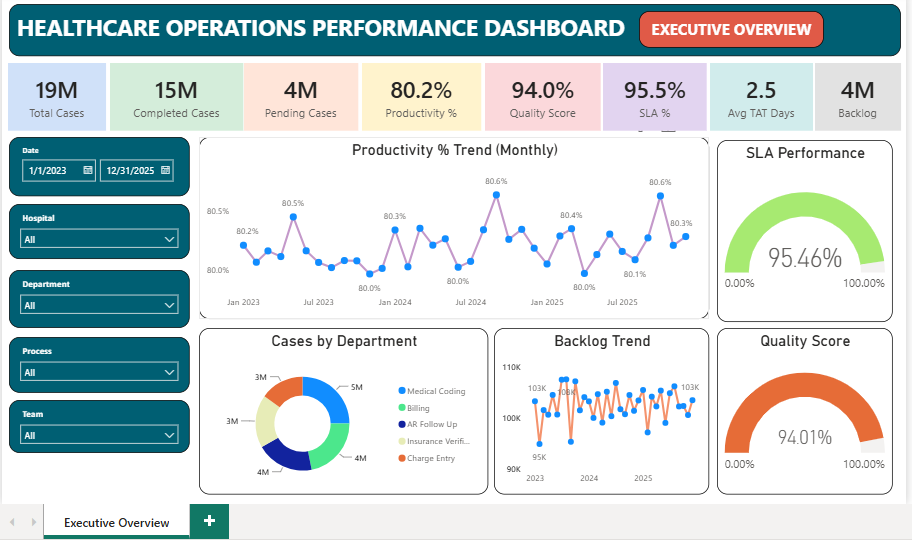

What the dashboard file says about the page in this screenshot:
{"tool":"powerbi","page":{"name":"Executive Overview","canvas":[1280,720],"ordinal":0},"visuals":[{"type":"textbox","box":[9.9,11.3,1264.3,73.7],"z":0},{"type":"textbox","box":[902.8,21.3,262.1,51.8],"z":1000},{"type":"slicer","fields":{"Values":["Dim_Date.Date"]},"box":[10.1,200.2,256.3,83.5],"z":2000},{"type":"slicer","fields":{"Values":["Dim_Hospital.Hospital_Name"]},"box":[10.1,295.2,256.3,77.8],"z":3000},{"type":"slicer","fields":{"Values":["Dim_Department.Department"]},"box":[10.1,388.8,256.3,82.1],"z":4000},{"type":"slicer","fields":{"Values":["Dim_Process.Process"]},"box":[10.1,483.8,256.3,79.2],"z":5000},{"type":"slicer","fields":{"Values":["Dim_Team.Team"]},"box":[10.1,573.1,256.3,74.9],"z":6000},{"type":"lineChart","title":"Productivity % Trend (Monthly)","fields":{"Category":["Dim_Date.Month_Year"],"Y":["Fact_Healthcare_Operations.Productivity %"]},"box":[279.4,200.2,722.9,257.8],"z":7000},{"type":"donutChart","title":"Cases by Department","fields":{"Category":["Dim_Department.Department"],"Y":["Fact_Healthcare_Operations.Total Cases"]},"box":[279.4,470.9,410.4,236.2],"z":8000},{"type":"lineChart","title":"Backlog Trend","fields":{"Category":["Dim_Date.Month_Year"],"Y":["Fact_Healthcare_Operations.Backlog"]},"box":[697,470.9,305.3,236.2],"z":9000},{"type":"gauge","title":"SLA Performance","fields":{"Y":["Fact_Healthcare_Operations.SLA %"]},"box":[1013.8,204.5,249.1,257.8],"z":10000},{"type":"gauge","title":"Quality Score","fields":{"Y":["Fact_Healthcare_Operations.Quality Score"]},"box":[1013.8,470.9,249.1,236.2],"z":11000},{"type":"cardVisual","fields":{"Data":["Fact_Healthcare_Operations.Total Cases"]},"box":[8.5,95,138.9,96.4],"z":12000},{"type":"cardVisual","fields":{"Data":["Fact_Healthcare_Operations.Completed Cases"]},"box":[153.1,95,188.5,96.4],"z":13000},{"type":"cardVisual","fields":{"Data":["Fact_Healthcare_Operations.Pending Cases"]},"box":[343,95,161.6,96.4],"z":14000},{"type":"cardVisual","fields":{"Data":["Fact_Healthcare_Operations.Productivity %"]},"box":[510.2,95,168.7,96.4],"z":15000},{"type":"cardVisual","fields":{"Data":["Fact_Healthcare_Operations.Quality Score"]},"box":[684.6,95,164.4,96.4],"z":16000},{"type":"cardVisual","fields":{"Data":["Fact_Healthcare_Operations.SLA %"]},"box":[851.8,95,147.4,96.4],"z":17000},{"type":"cardVisual","fields":{"Data":["Fact_Healthcare_Operations.Avg TAT Days"]},"box":[1003.5,95,146,96.4],"z":18000},{"type":"cardVisual","fields":{"Data":["Fact_Healthcare_Operations.Backlog"]},"box":[1152.3,95,121.9,96.4],"z":19000}]}

Visuals, with their boxes in screenshot pixels (x1, y1, x2, y2):
textbox: bbox=[7, 3, 895, 55]
textbox: bbox=[634, 10, 819, 47]
slicer - Dim_Date.Date: bbox=[7, 136, 187, 195]
slicer - Dim_Hospital.Hospital_Name: bbox=[7, 203, 187, 257]
slicer - Dim_Department.Department: bbox=[7, 268, 187, 326]
slicer - Dim_Process.Process: bbox=[7, 335, 187, 391]
slicer - Dim_Team.Team: bbox=[7, 398, 187, 451]
"Productivity % Trend (Monthly)" lineChart: bbox=[196, 136, 704, 317]
"Cases by Department" donutChart: bbox=[196, 326, 485, 492]
"Backlog Trend" lineChart: bbox=[490, 326, 704, 492]
"SLA Performance" gauge: bbox=[712, 139, 887, 320]
"Quality Score" gauge: bbox=[712, 326, 887, 492]
cardVisual - Fact_Healthcare_Operations.Total Cases: bbox=[6, 62, 104, 130]
cardVisual - Fact_Healthcare_Operations.Completed Cases: bbox=[108, 62, 240, 130]
cardVisual - Fact_Healthcare_Operations.Pending Cases: bbox=[241, 62, 355, 130]
cardVisual - Fact_Healthcare_Operations.Productivity %: bbox=[358, 62, 477, 130]
cardVisual - Fact_Healthcare_Operations.Quality Score: bbox=[481, 62, 597, 130]
cardVisual - Fact_Healthcare_Operations.SLA %: bbox=[599, 62, 702, 130]
cardVisual - Fact_Healthcare_Operations.Avg TAT Days: bbox=[705, 62, 808, 130]
cardVisual - Fact_Healthcare_Operations.Backlog: bbox=[810, 62, 895, 130]
